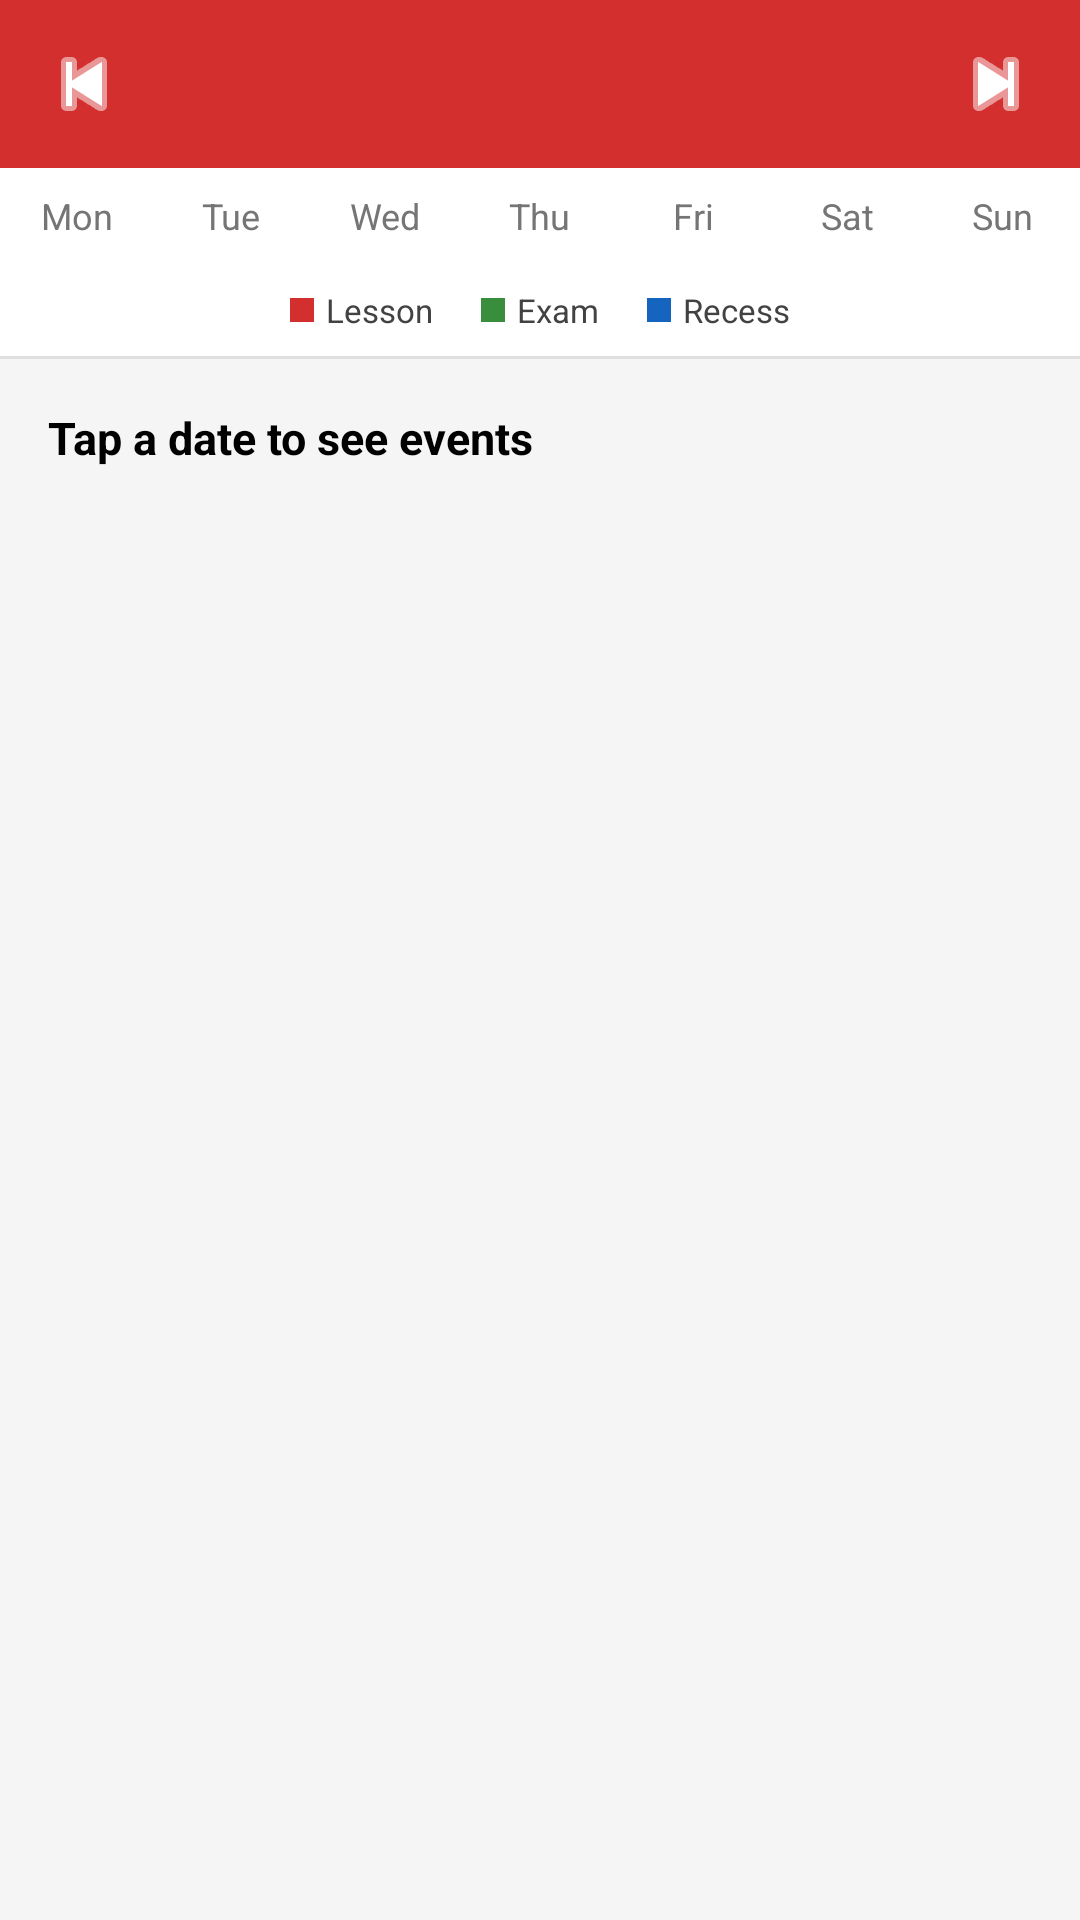

Screen size 1080 x 1920. Icon name, then its box in pixels as (x1, y1, x2, y2):
Next month: (973, 57, 1019, 111)
Previous month: (61, 57, 107, 111)
